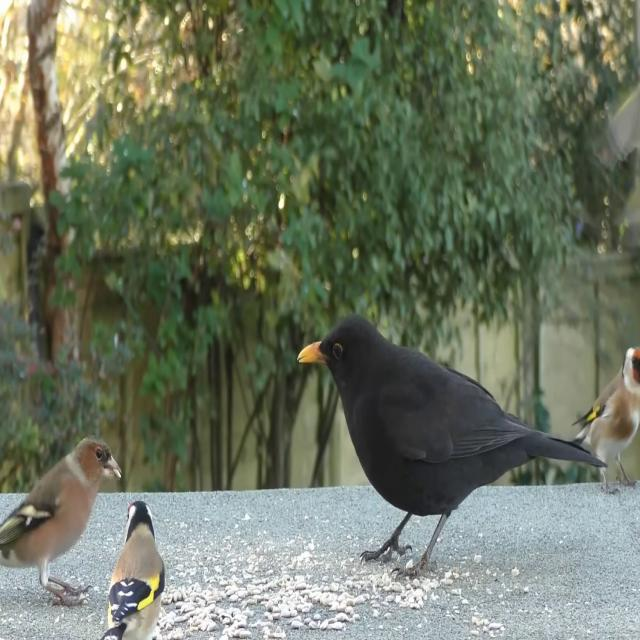beak: (293, 336, 329, 372), (104, 447, 125, 486)
bird: (296, 312, 608, 588), (1, 436, 122, 613), (551, 338, 640, 504), (96, 501, 166, 640)
